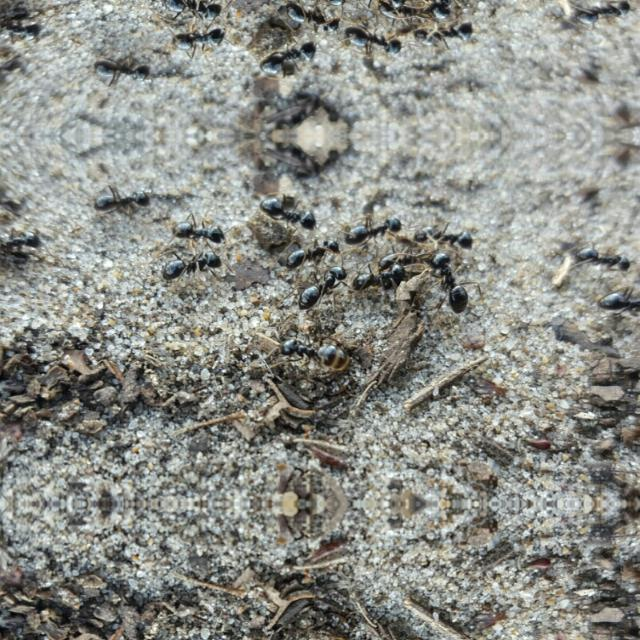Lasius: (546, 235, 632, 278), (280, 327, 352, 371), (546, 0, 632, 34), (432, 255, 482, 313), (255, 194, 327, 234), (255, 36, 327, 76), (352, 201, 416, 243), (352, 27, 416, 69), (348, 256, 422, 290), (279, 232, 345, 270), (279, 0, 345, 38), (154, 245, 222, 281), (298, 264, 348, 310), (419, 214, 493, 244), (419, 26, 493, 56), (598, 278, 640, 318), (152, 0, 221, 24), (347, 0, 420, 12), (430, 0, 481, 14)
